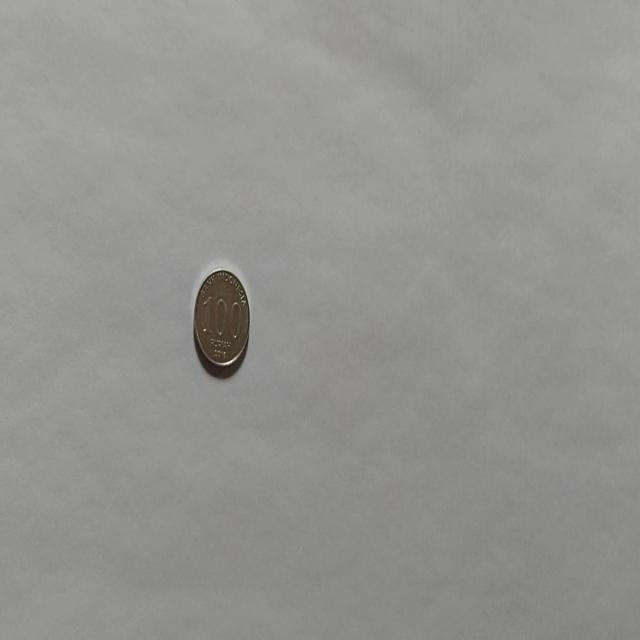seratus rupiah: (192, 266, 250, 374)
